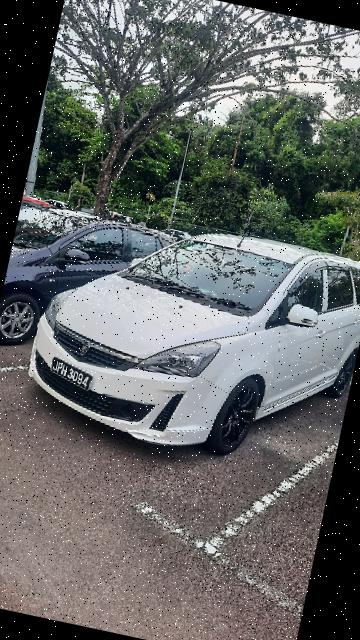License_Plate: (43, 355, 102, 398)
car: (16, 187, 360, 481)
